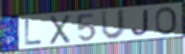5: (76, 12, 98, 42)
J: (130, 9, 150, 37)
L: (24, 18, 44, 47)
O: (154, 6, 179, 36)
U: (100, 9, 127, 41)
X: (49, 14, 72, 46)
